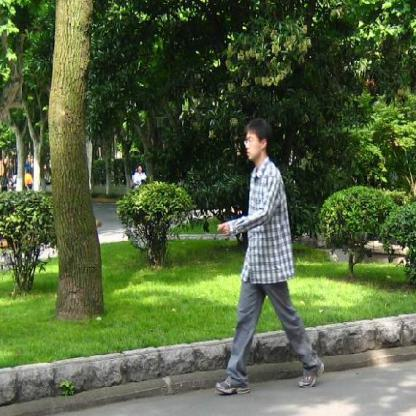person: (210, 115, 328, 395)
